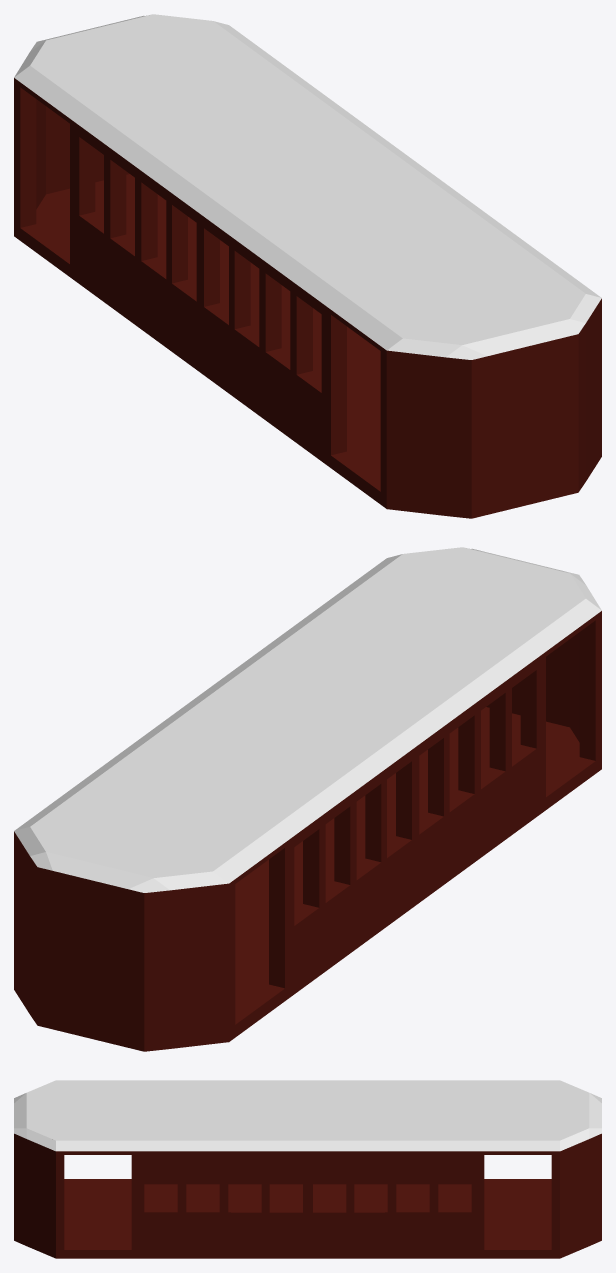
The model's file is tram.glb.
3 renders of one model, top to bottom at view 1: azimuth 30°, elevation 25°; view 2: azimuth 150°, elevation 25°; view 3: azimuth 270°, elevation 25°, orthographic. The views are drawn at different scales.
Visible parts, largest first — view 1: Cube; view 2: Cube; view 3: Cube.
Boxes of the visible parts, x1=… form: Cube: x1=14, y1=14, x2=601, y2=518; Cube: x1=14, y1=547, x2=601, y2=1051; Cube: x1=14, y1=1080, x2=601, y2=1258.
Bounding box in the file's own units: 4 × 2.96 × 14.
